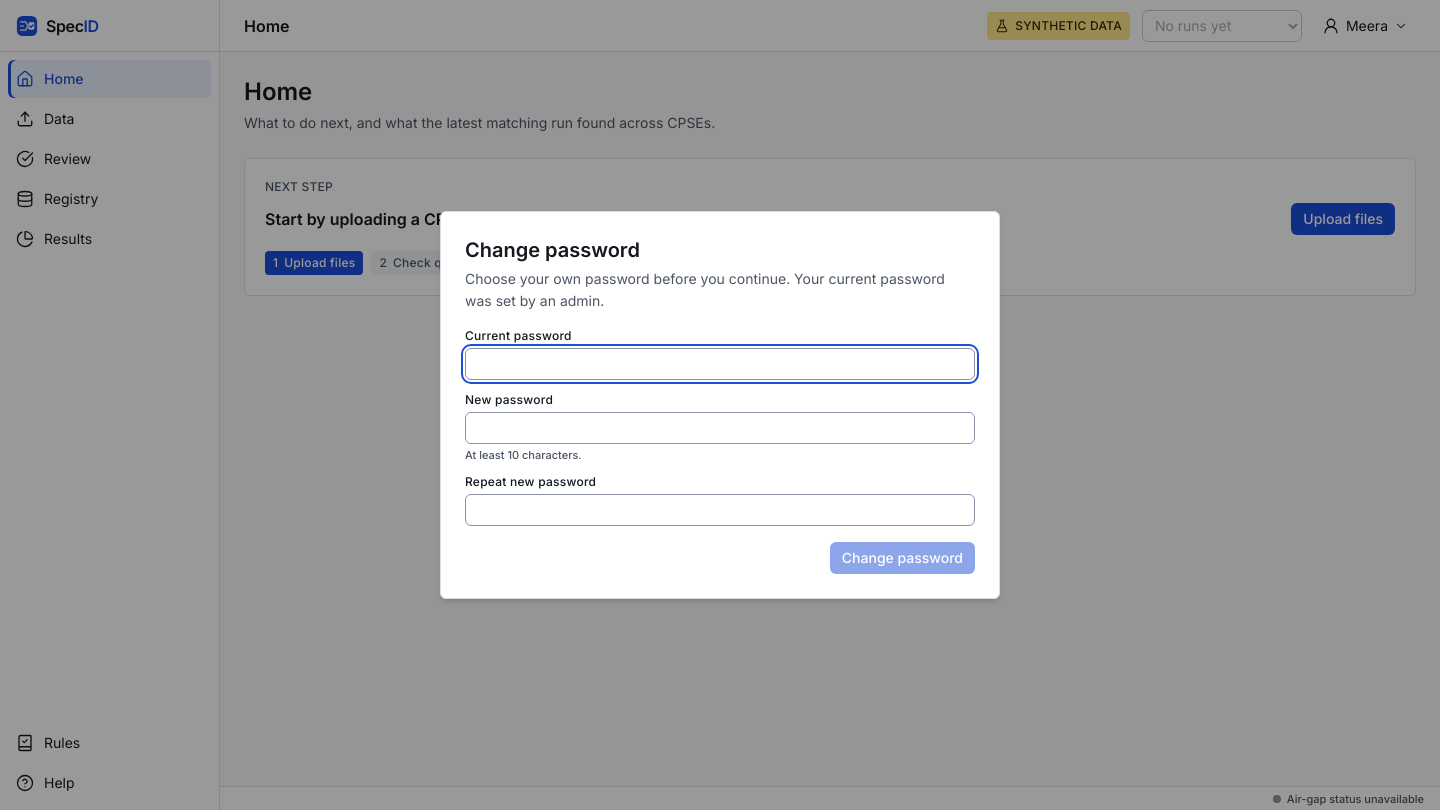
Test: forced password change (App Flow 4.2) › posts /me/password, reloads the user and closes
Type "temporary-pass-1" into the password field labelled "Current password". click: (720, 364)
box: x1=465 y1=348 x2=975 y2=380
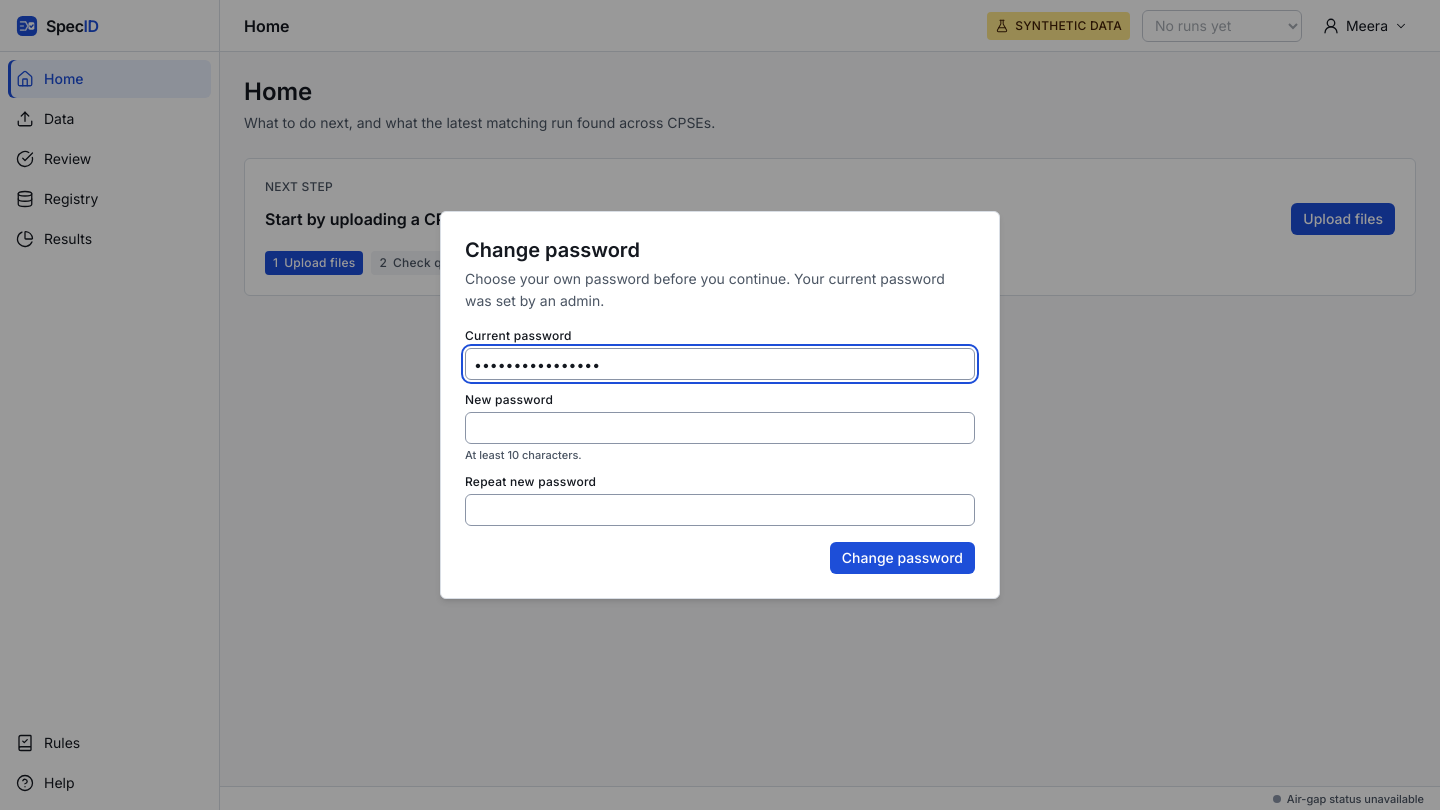
Type "short" into the password field labelled "New password". click: (720, 428)
box: x1=465 y1=412 x2=975 y2=444
Type "short" into the password field labelled "Repeat new password". click: (720, 510)
box: x1=465 y1=494 x2=975 y2=526
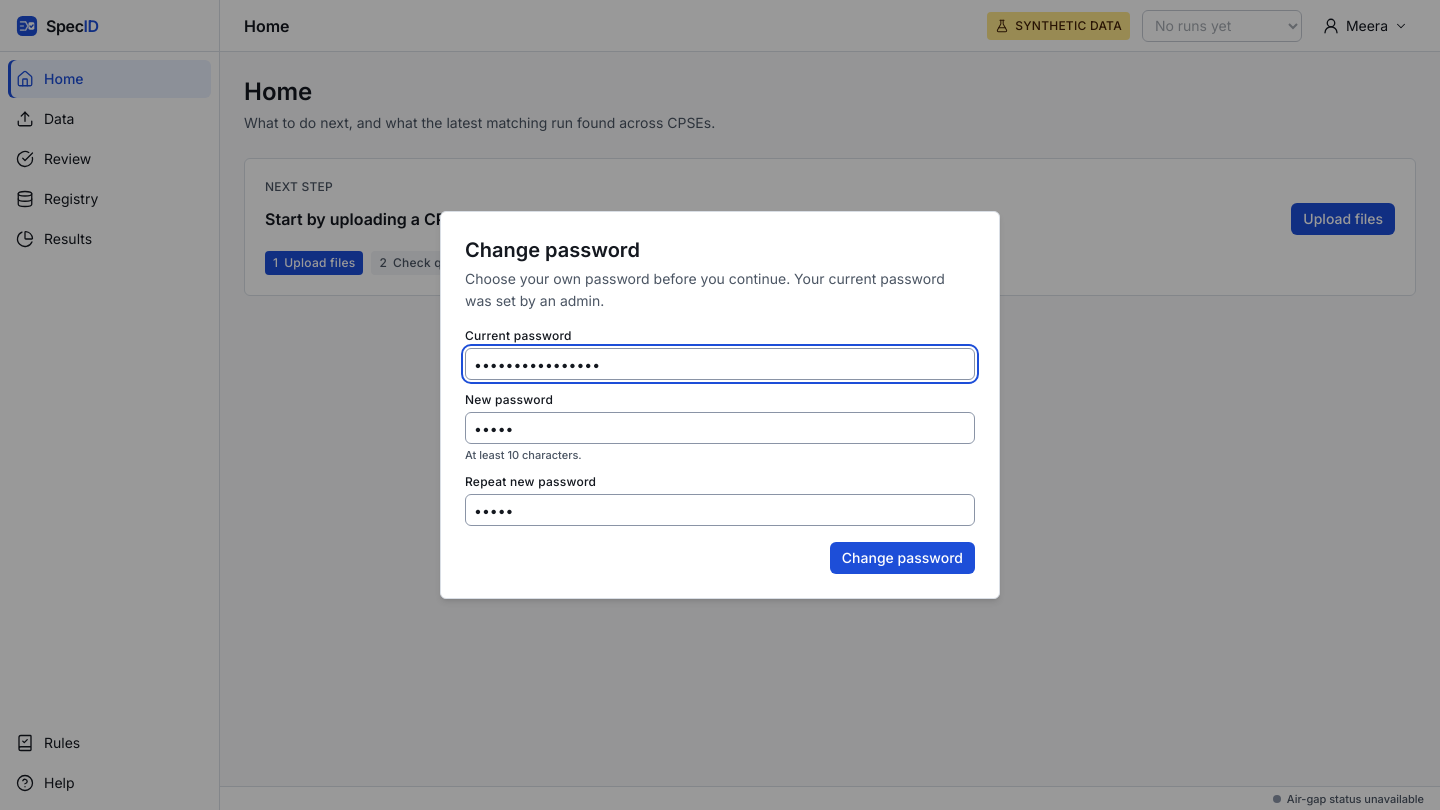
Click the button "Change password". click: (902, 558)
box: x1=830 y1=542 x2=975 y2=574
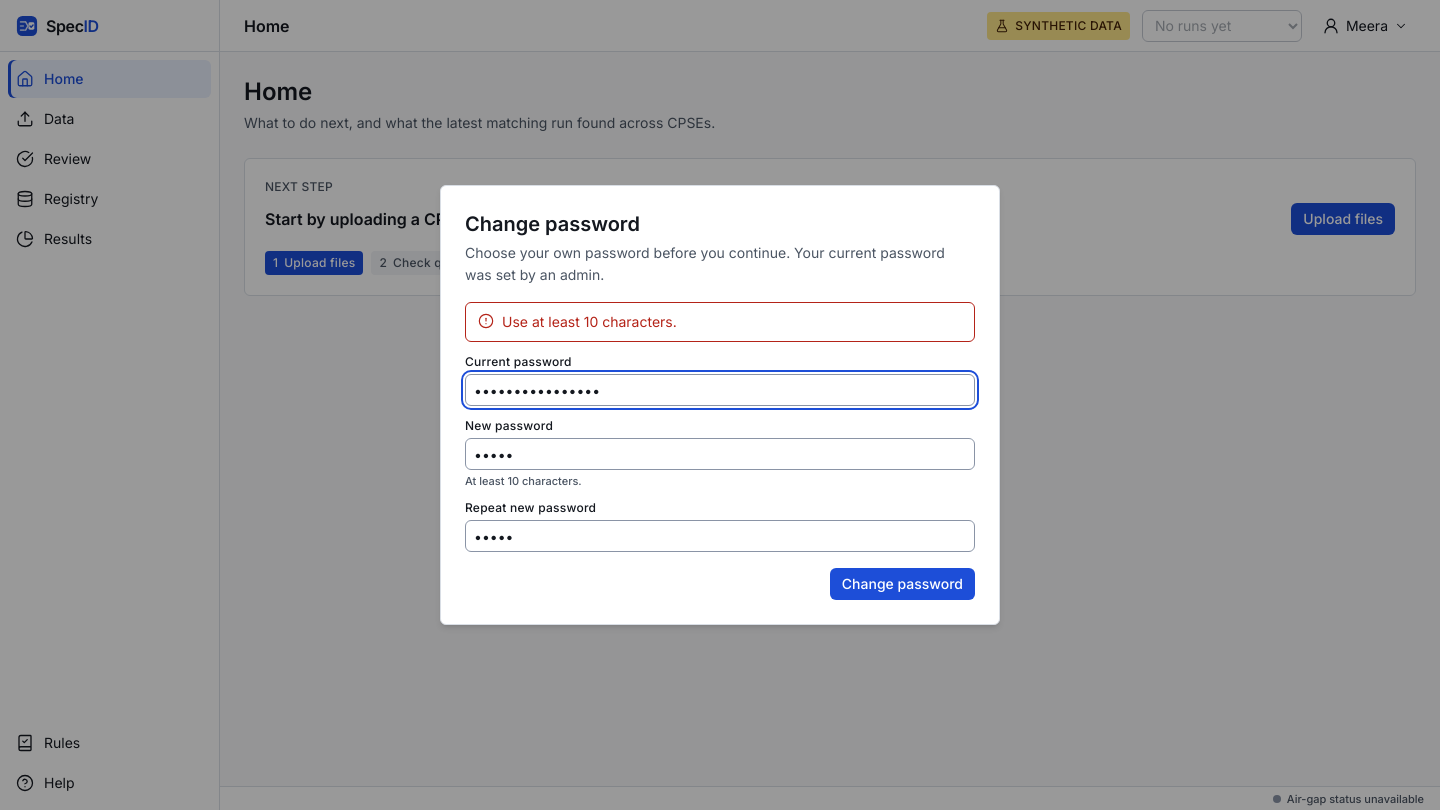
Expected: the message shows "at least 10 characters", x1=502 y1=313 x2=677 y2=330
Type "my-own-password-1" into the password field labelled "New password". click: (720, 454)
box: x1=465 y1=438 x2=975 y2=470
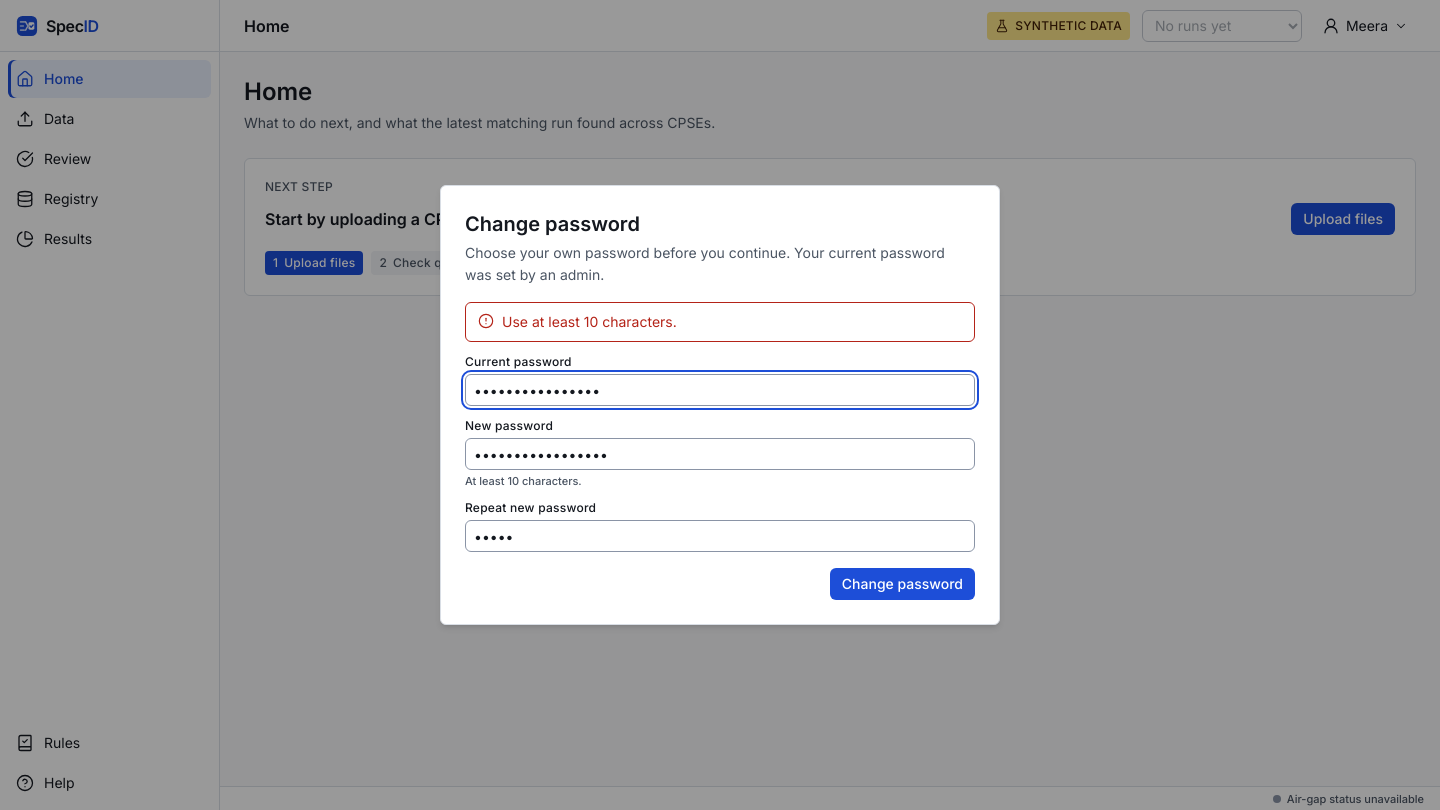
Type "my-own-password-1" into the password field labelled "Repeat new password". click: (720, 536)
box: x1=465 y1=520 x2=975 y2=552
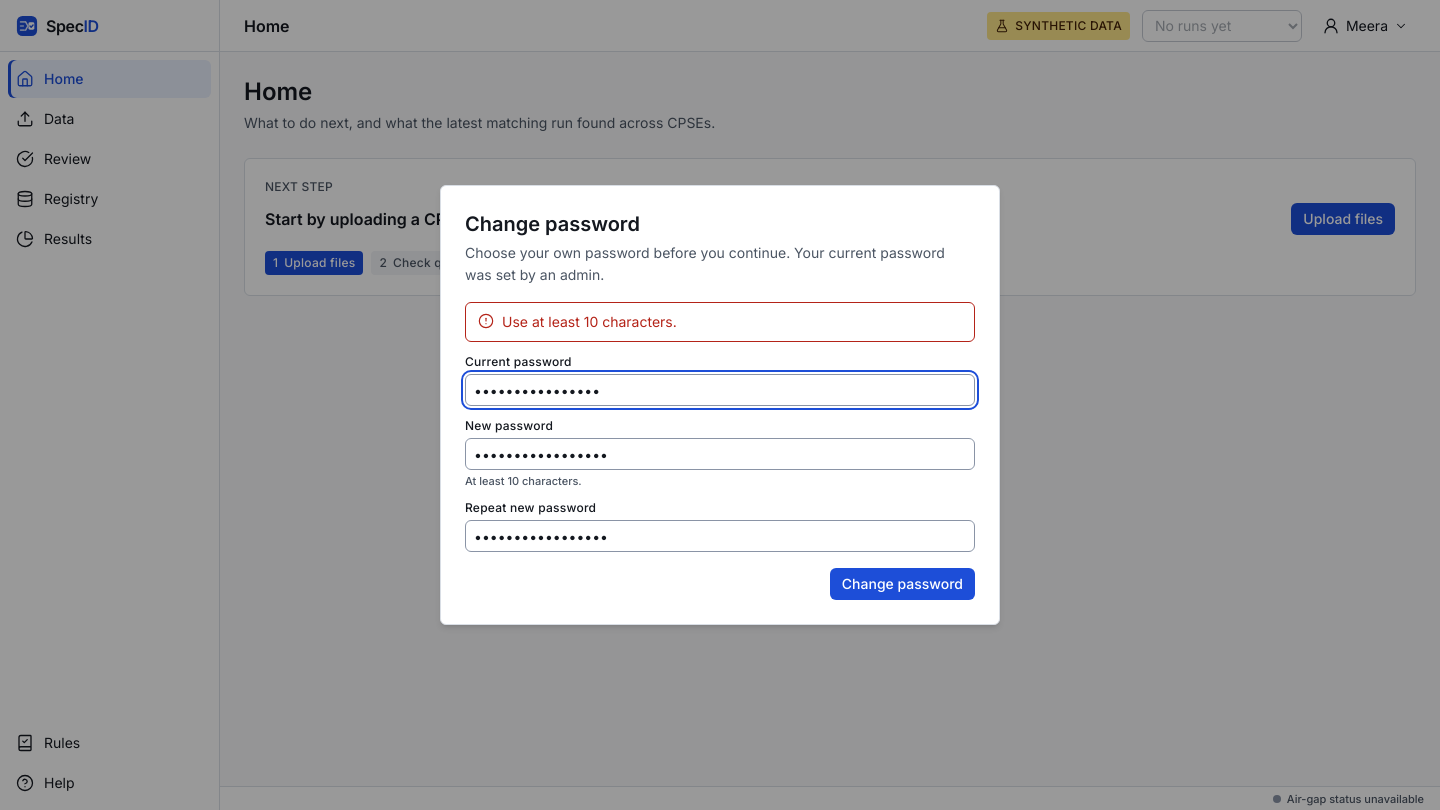
Click the button "Change password". click: (902, 584)
box: x1=830 y1=568 x2=975 y2=600
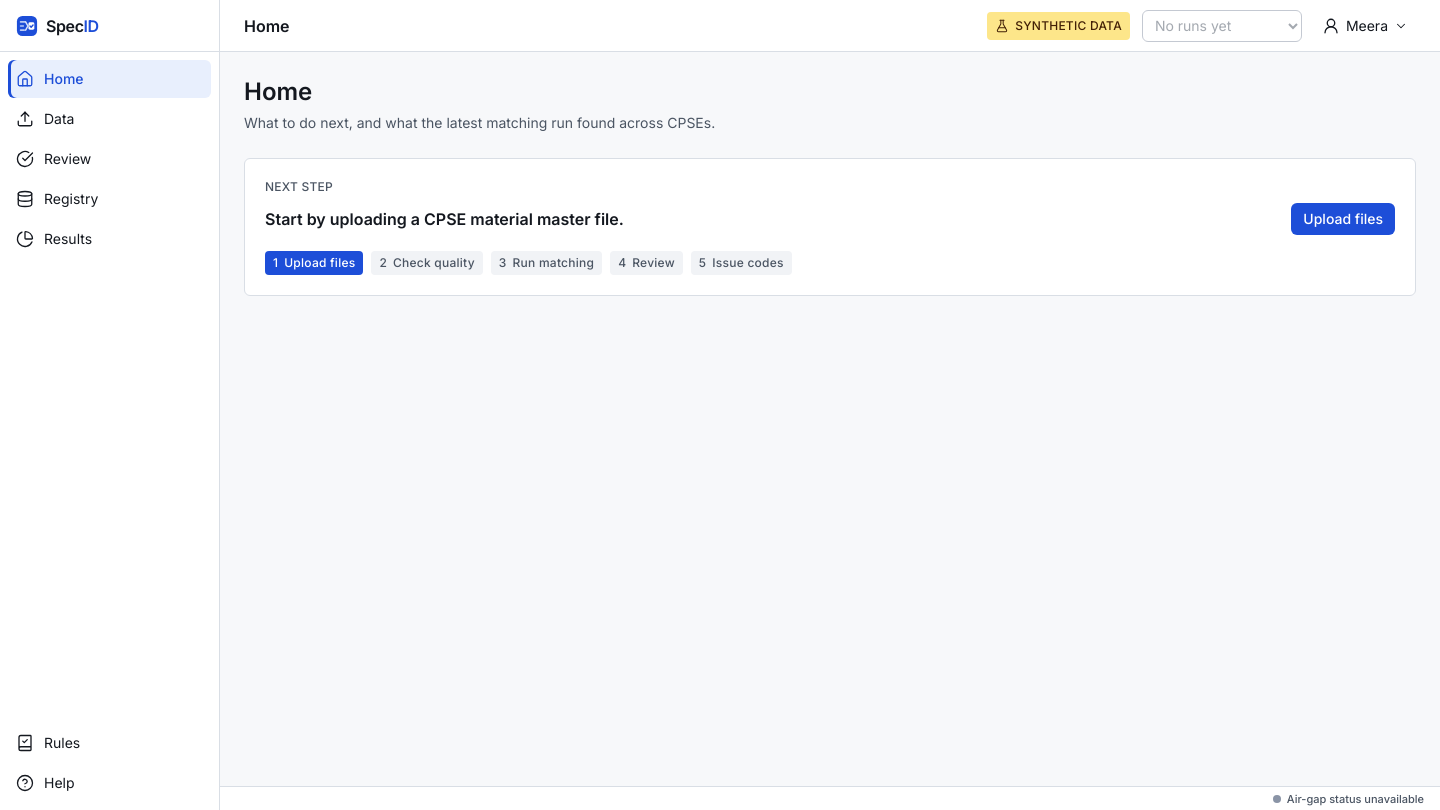
Expected: the dialog is gone
